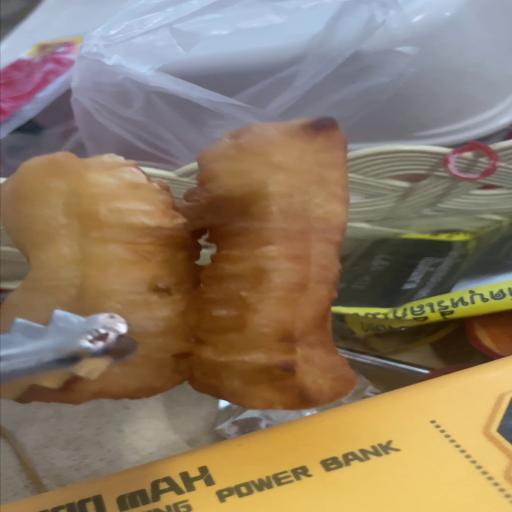street_burnt_defect: (0, 120, 357, 409)
